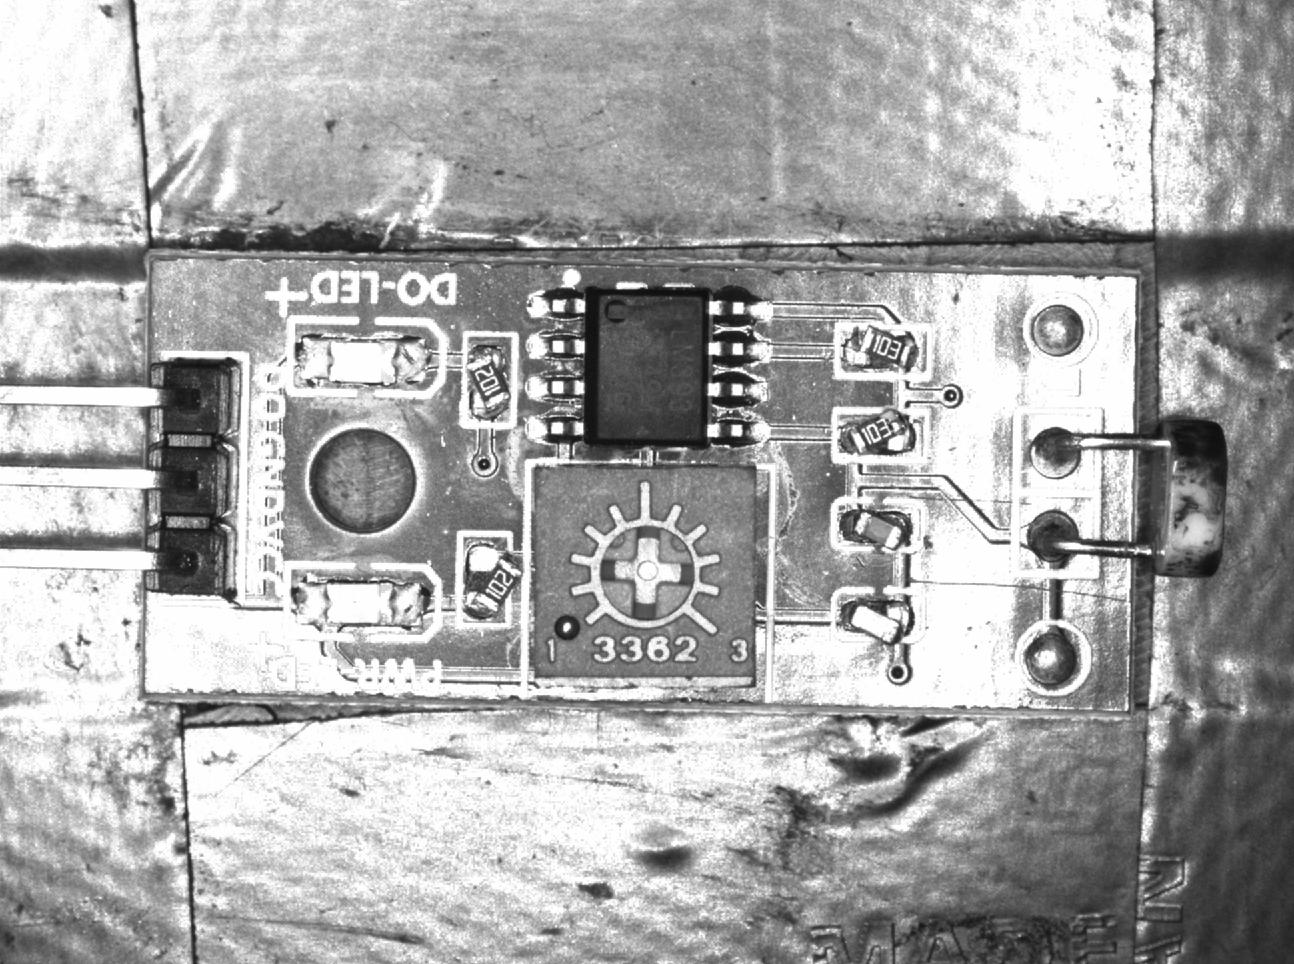lifted: (453, 533, 516, 630), (833, 321, 932, 377), (831, 590, 926, 645), (464, 332, 517, 425), (834, 496, 923, 552), (835, 408, 926, 460)
